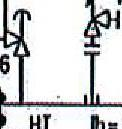psv: (82, 1, 111, 50)
